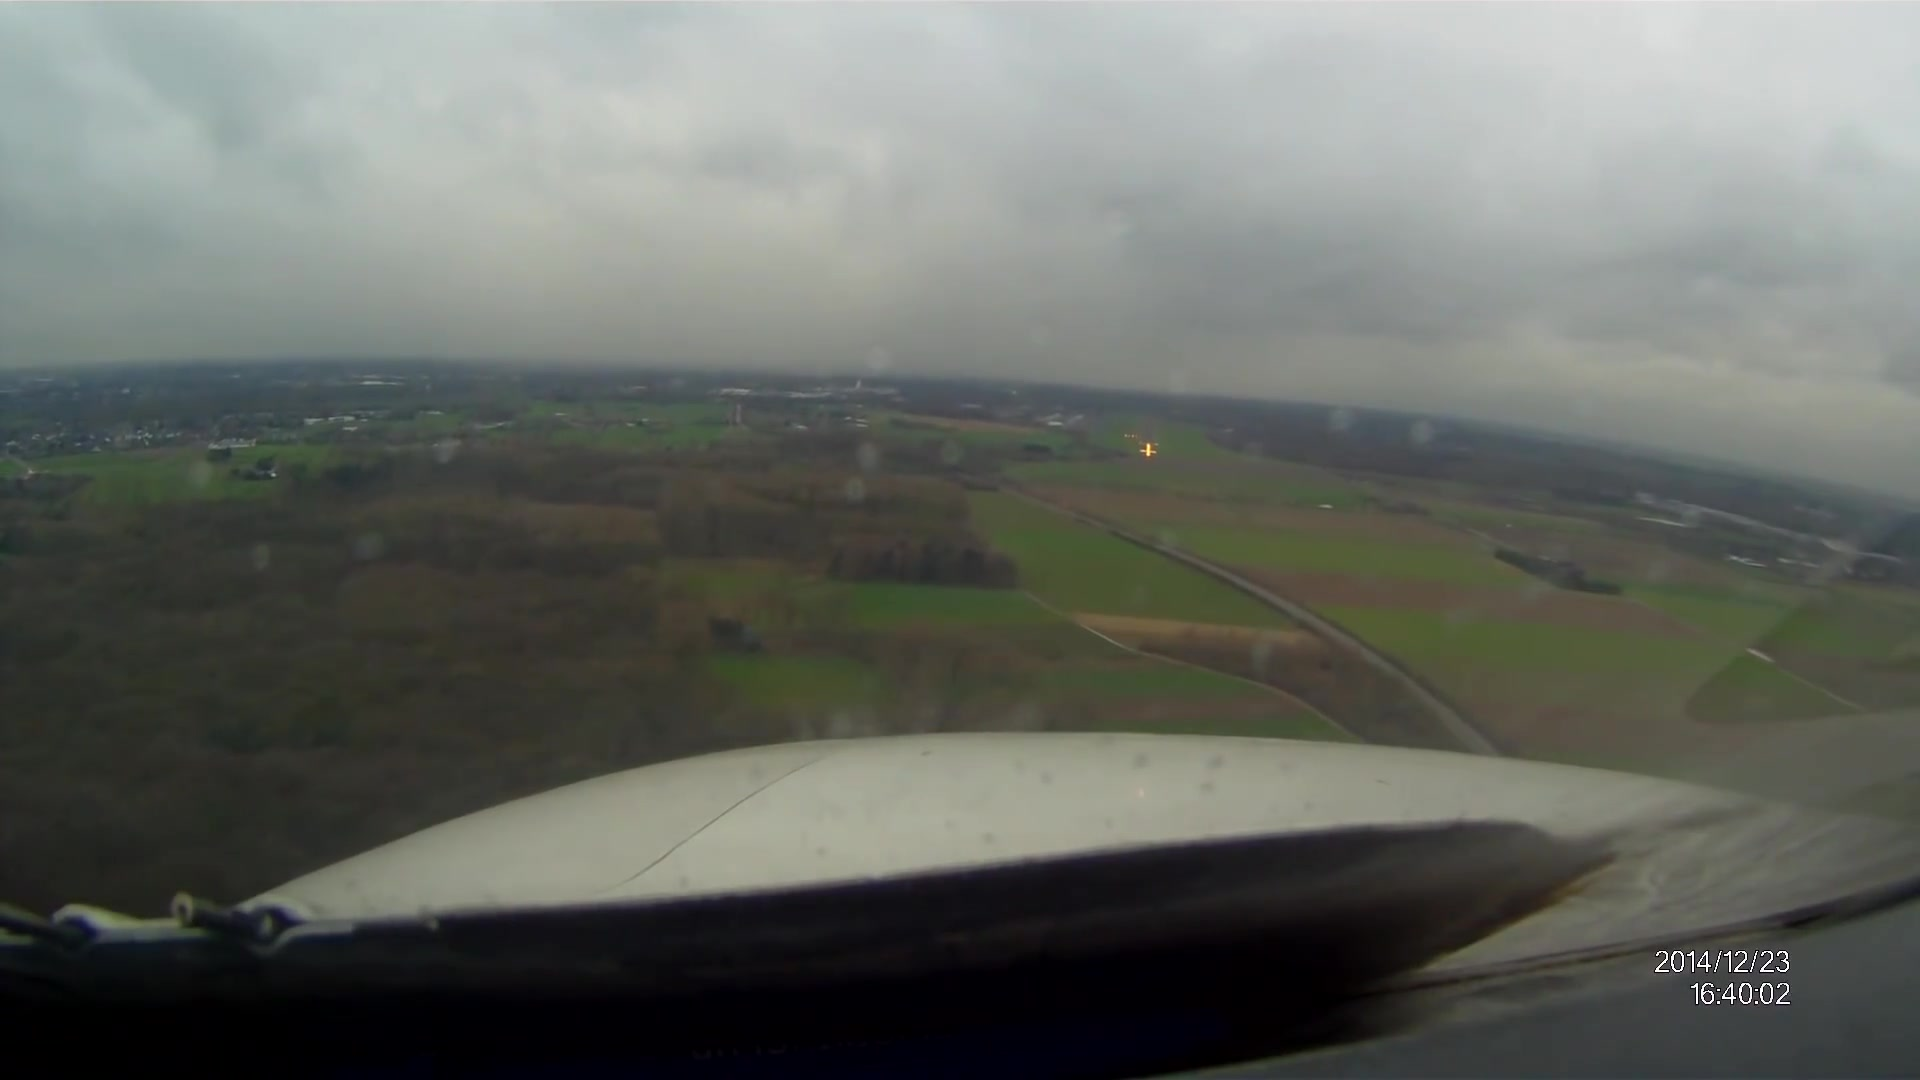runway: (1134, 413, 1160, 456)
